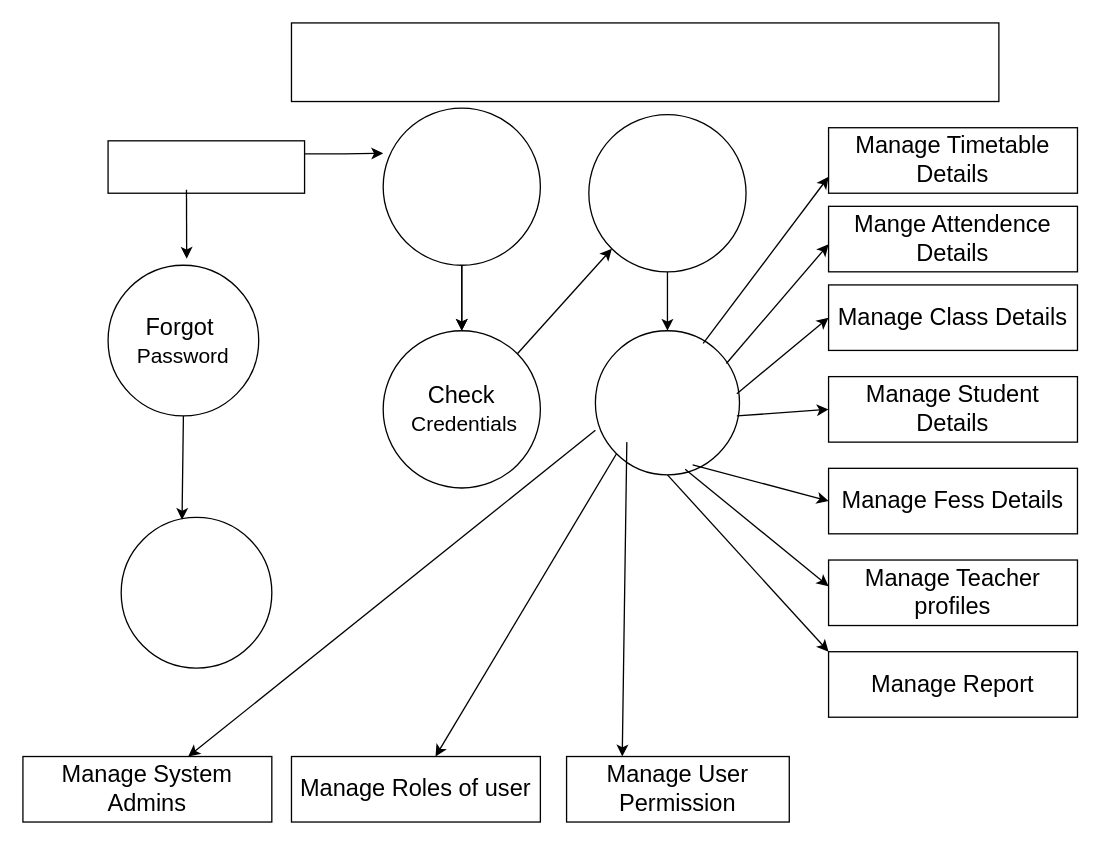
Some shapes in this 1100 by 845 pixel diagram are drawn without their labels. The shapes that lost their labels are listed below. From the top down, each one's centre as x and y in pixels, then its label:
[644,62]: STUDENT INFORMATION SYSTEM
[206,166]: Admin
[461,186]: Login to System
[667,192]: Check Roles of Access
[666,402]: Mange Modules
[196,592]: Send Email to User
